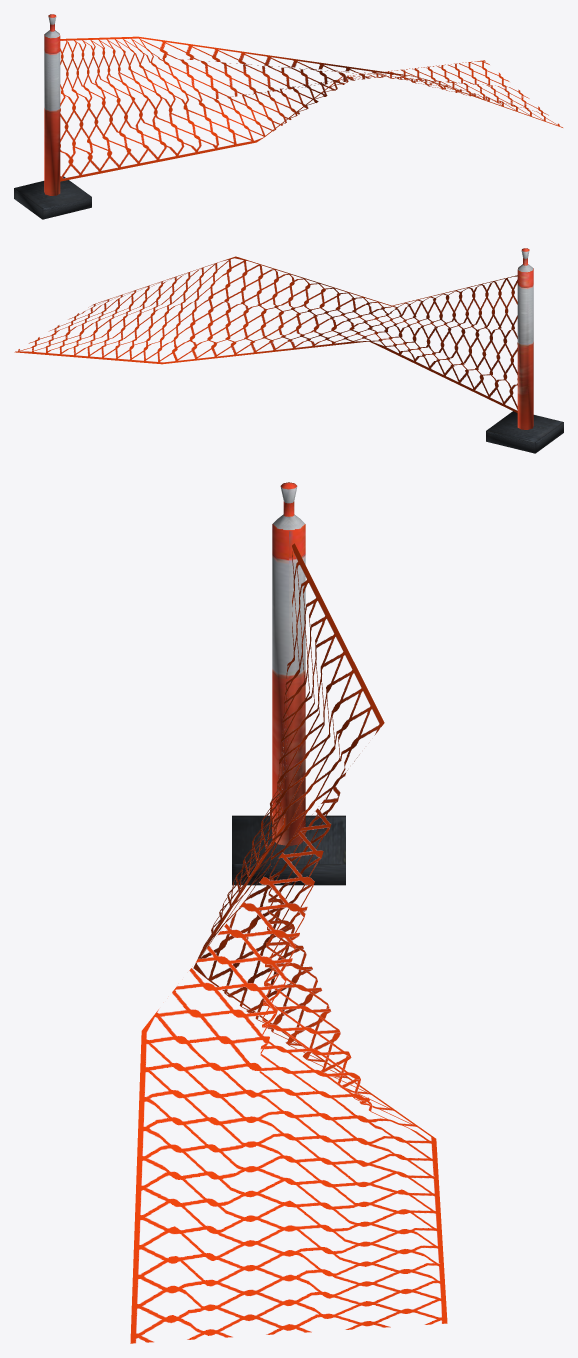
The model's file is orangeFence_fallen.fbx.
3 renders of one model, top to bottom at view 1: azimuth 30°, elevation 25°; view 2: azimuth 150°, elevation 25°; view 3: azimuth 270°, elevation 25°, orthographic. The views are drawn at different scales.
Visible parts, largest first — view 1: Plane, Cylinder, Duplicate00, Box; view 2: Plane, Duplicate00, Cylinder, Box; view 3: Plane, Duplicate00, Cylinder, Box.
Part boxes in pixels (box(x1,y1,x2,y2)): Plane: box(60, 36, 562, 181); Cylinder: box(44, 14, 60, 195); Duplicate00: box(60, 37, 562, 176); Box: box(14, 176, 91, 219); Plane: box(14, 256, 517, 412); Duplicate00: box(19, 257, 517, 410); Cylinder: box(517, 248, 533, 429); Box: box(486, 411, 563, 453); Plane: box(130, 543, 447, 1343); Duplicate00: box(131, 545, 446, 1342); Cylinder: box(272, 482, 305, 845); Box: box(232, 815, 345, 885).
Bounding box in the file's own units: 301 × 116 × 83.3.
